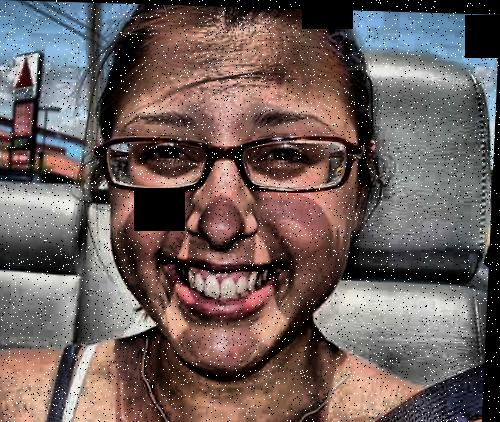seatbelt: (355, 334, 489, 422)
